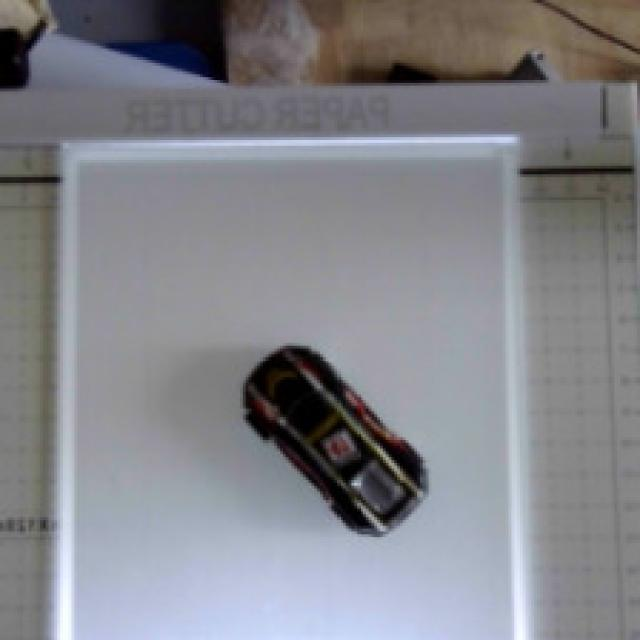Red Car: (170, 304, 454, 572)
